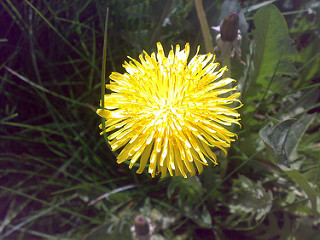dandelion yellow: (95, 40, 244, 181)
